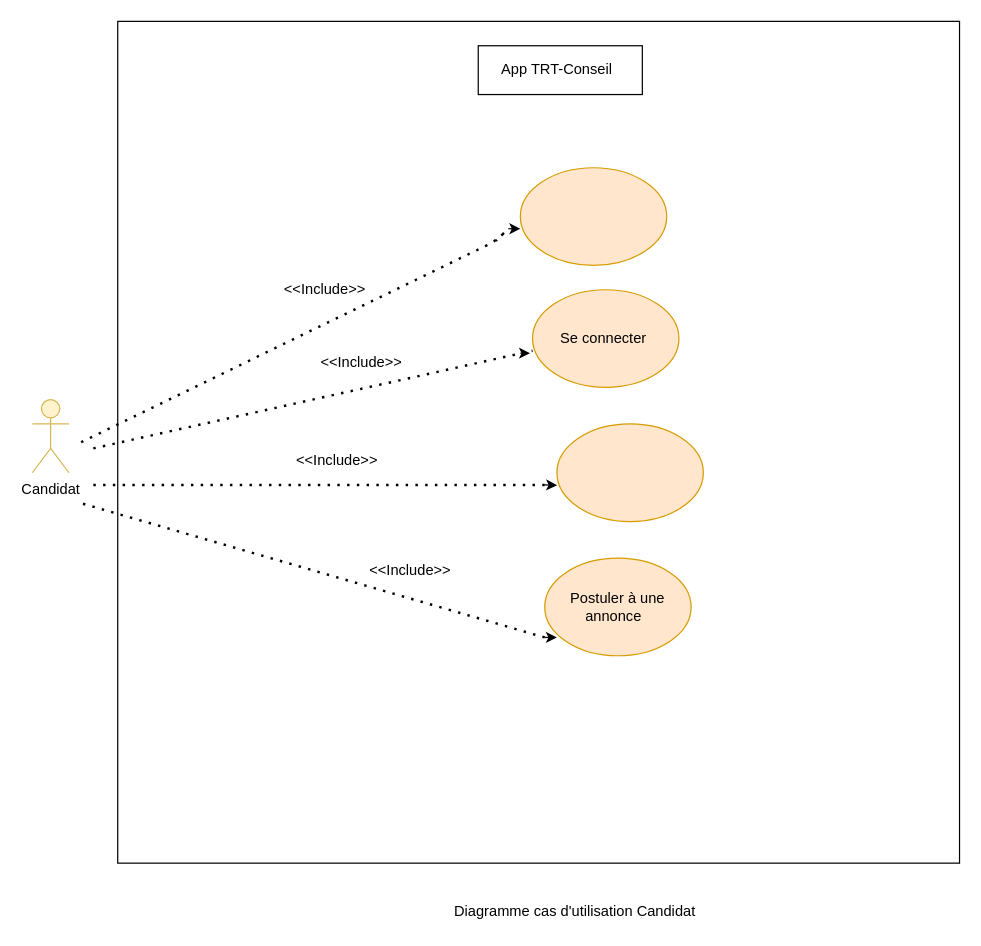
Image size: 981x946. Some labels were removed from this diagram. The centre of each missing label's shape, as x and y in pixels:
"Compléter son profil" goes at (x=629, y=472).
"Créer son compte" goes at (x=593, y=216).
